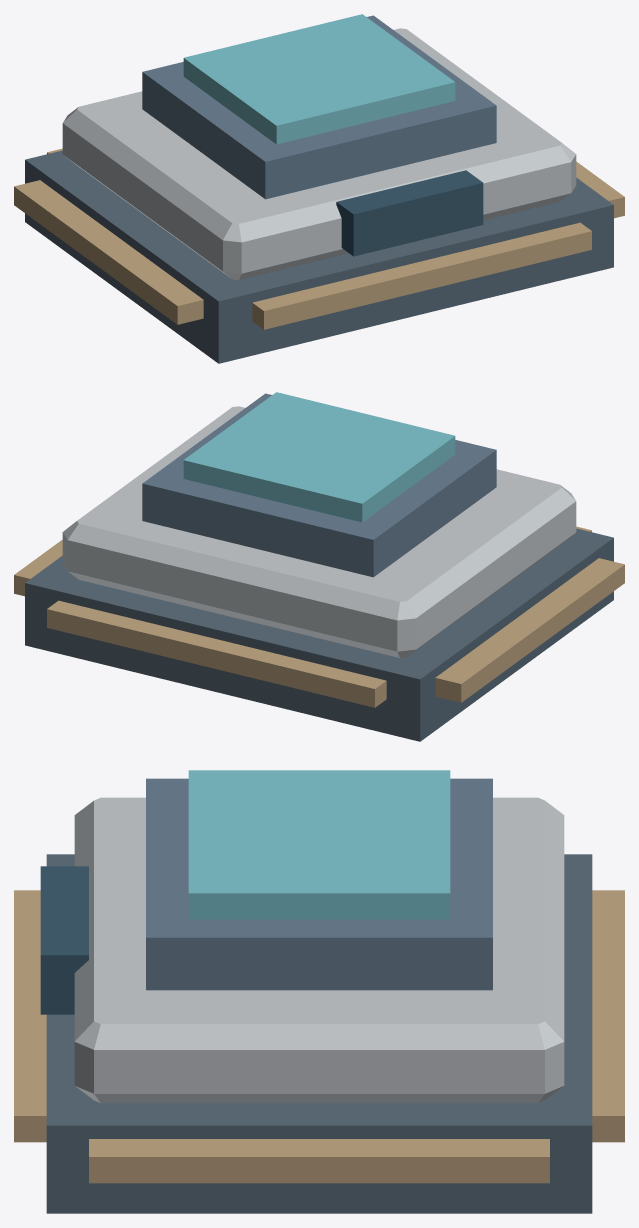
File: probeEco.glb
3 renders of one model, top to bottom at view 1: azimuth 30°, elevation 25°; view 2: azimuth 150°, elevation 25°; view 3: azimuth 270°, elevation 25°, orthographic. The views are drawn at different scales.
Visible parts, largest first — view 1: probeEco; view 2: probeEco; view 3: probeEco.
Boxes of the visible parts, bbox=[...] form: probeEco: bbox=[14, 14, 624, 363]; probeEco: bbox=[14, 392, 624, 741]; probeEco: bbox=[14, 770, 624, 1213].
Bounding box in the file's own units: 3 × 1.12 × 2.52.
